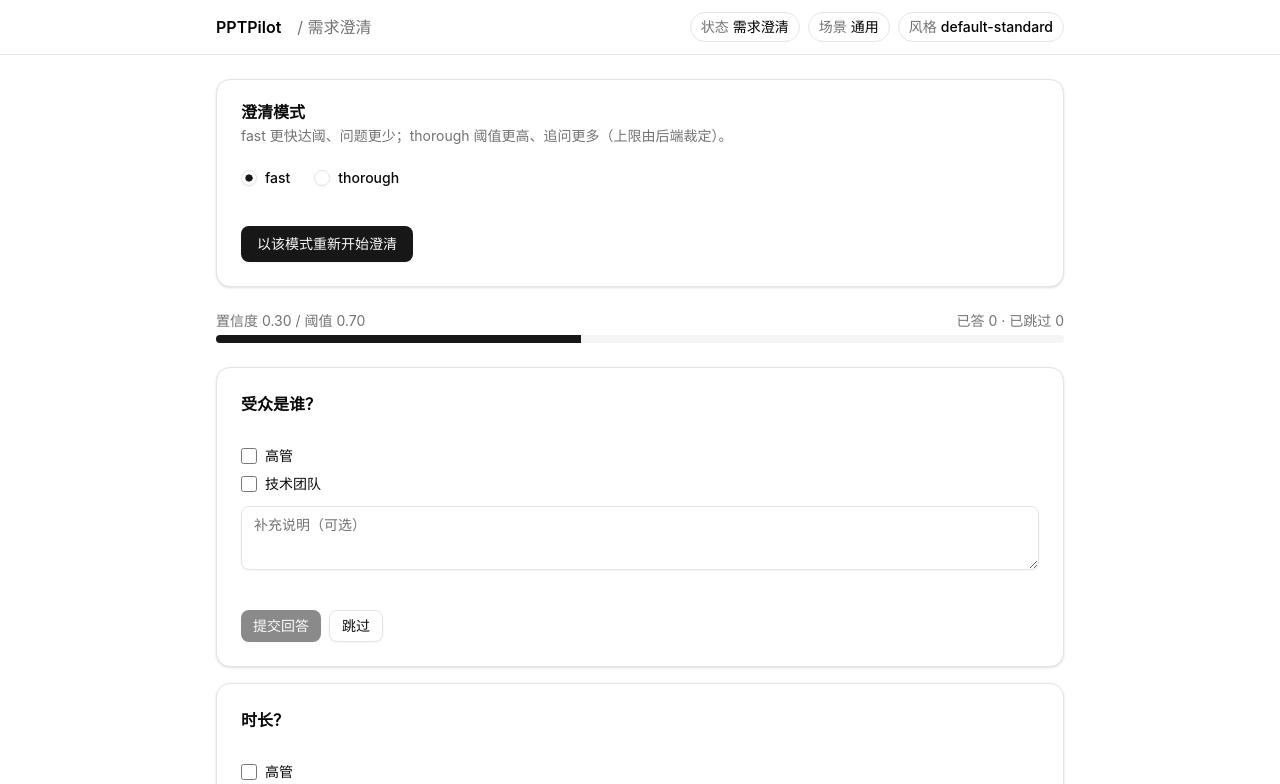
it: discovery page — answer / skip only update confidence › answer updates confidence, keeps the same cards, never re-discovers
Check: the text "受众是谁？" is shown, box [241,394,321,414]
What coordinates should you click on to do the following:
click the checkbox labelled "高管" below "受众是谁？"
I would click on:
 (249, 456)
Its box is [241,448,257,464].
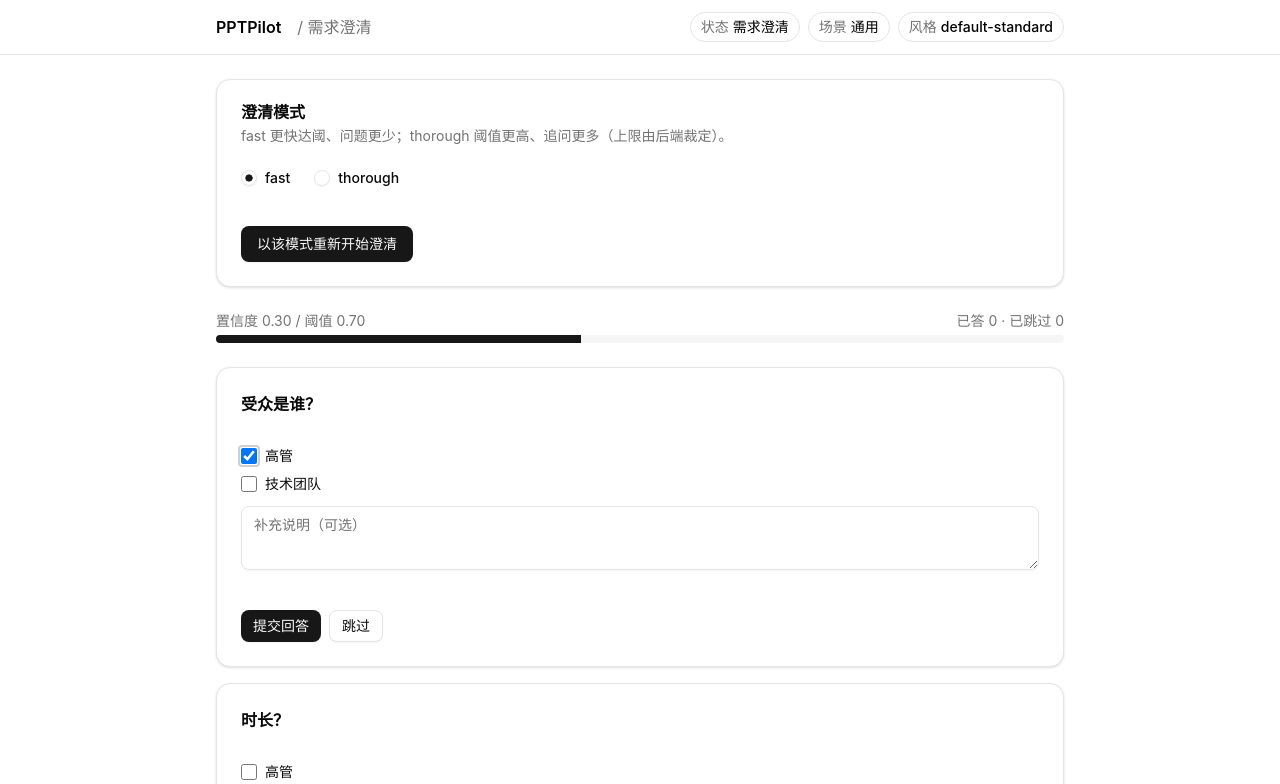
What coordinates should you click on to do the following:
click the button "提交回答"
I would click on:
 (281, 626)
Its box is [241,610,321,642].
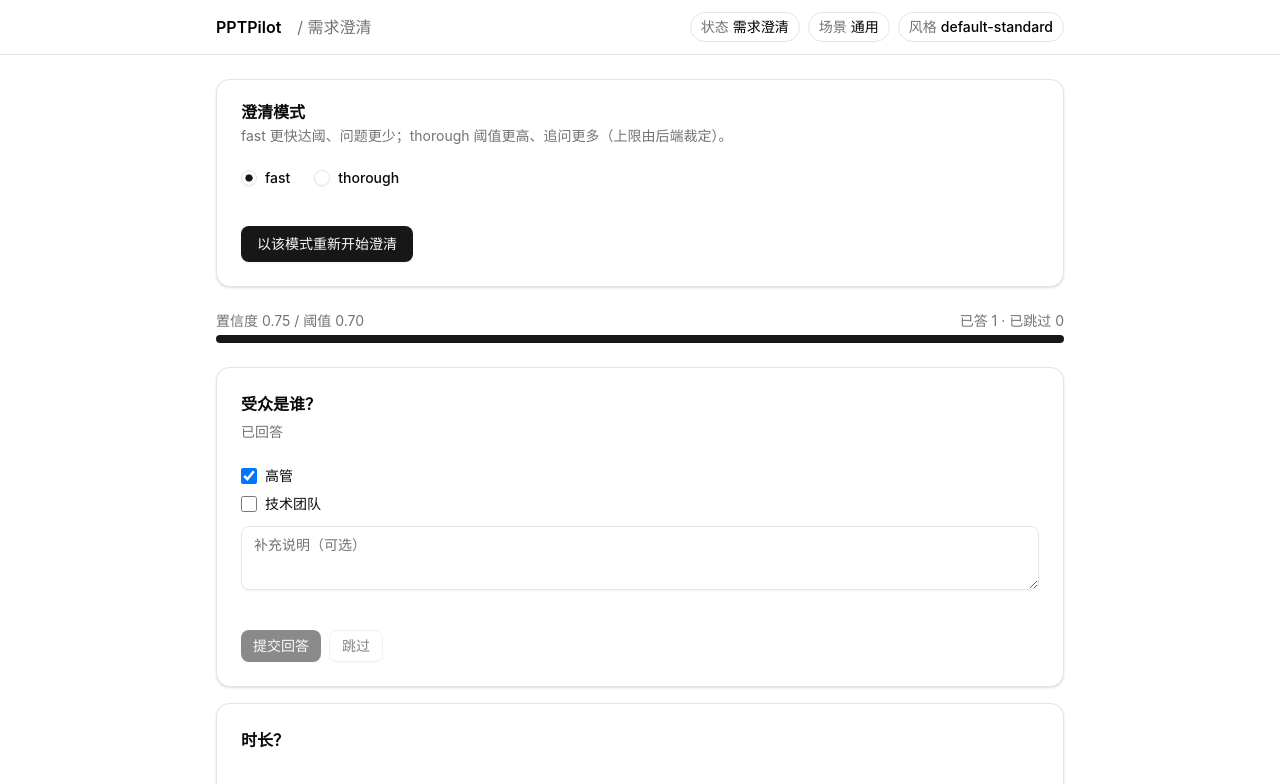
Check: the button "跳过" is disabled, box [329,630,383,662]
